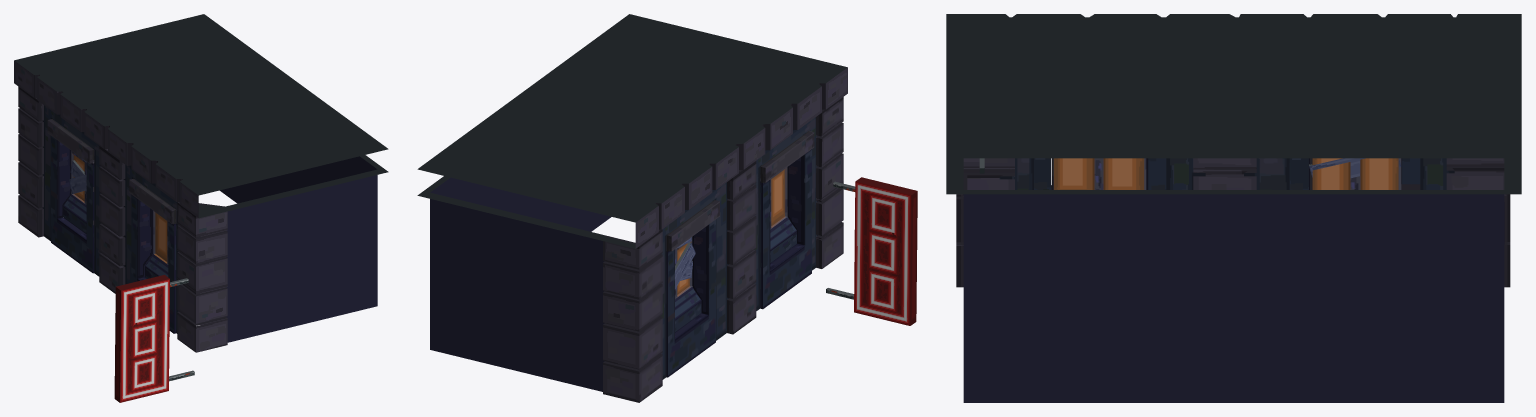
Rendered from batiment2_rdc 1.fbx.
The picture shows the model from 3 angles, left to right: view 1: azimuth 30°, elevation 25°; view 2: azimuth 150°, elevation 25°; view 3: azimuth 270°, elevation 25°; orthographic projection. The views are drawn at different scales.
Parts seen in each view (by area): view 1: Plane.008; view 2: Plane.008; view 3: Plane.008.
Part boxes in pixels (<box>): Plane.008: <box>14,14,388,402</box>; Plane.008: <box>417,14,917,402</box>; Plane.008: <box>946,14,1521,402</box>.
Size of the model in its own units: 1190 by 866 by 1468.
1 material, 1 textured.
